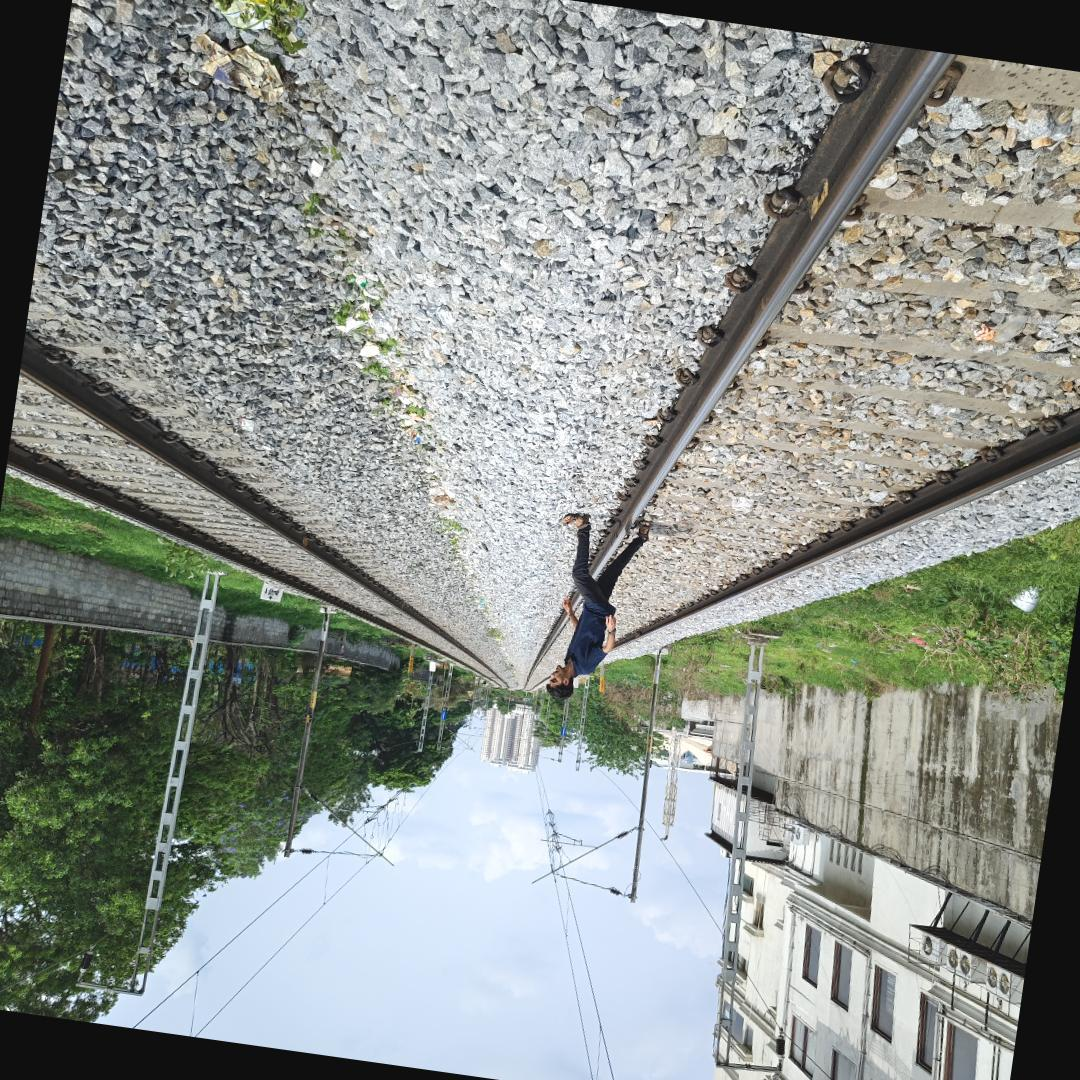track: (513, 14, 1080, 698)
